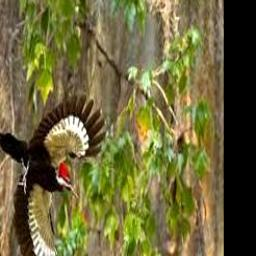Woodpecker: (0, 92, 109, 256)
